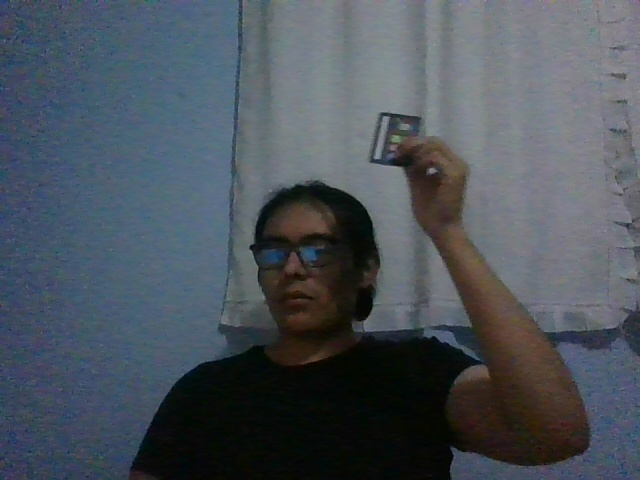tarjeta: (367, 111, 422, 167)
